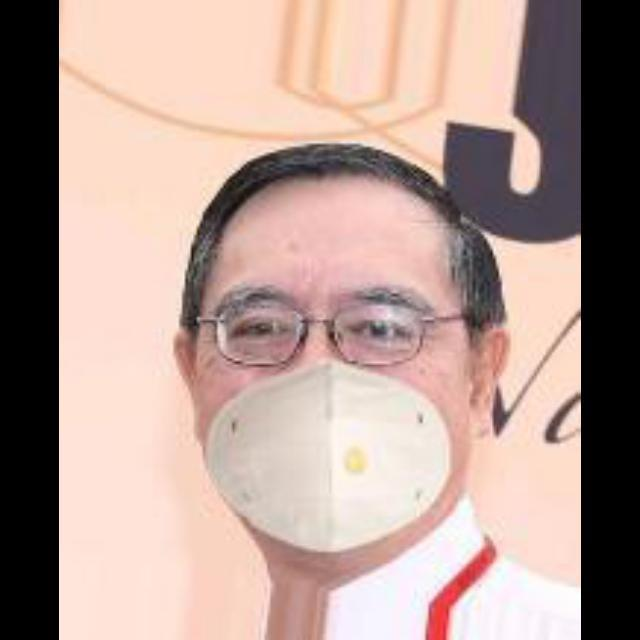suspicion: (193, 168, 489, 560)
